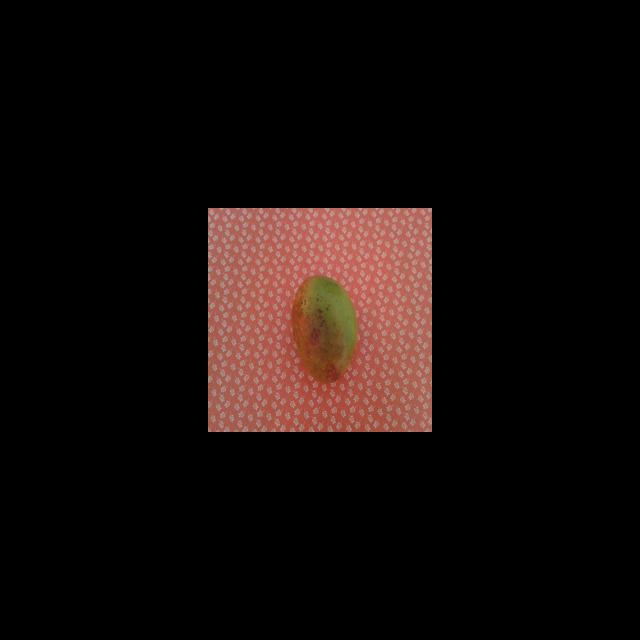Mango: (290, 274, 358, 383)
